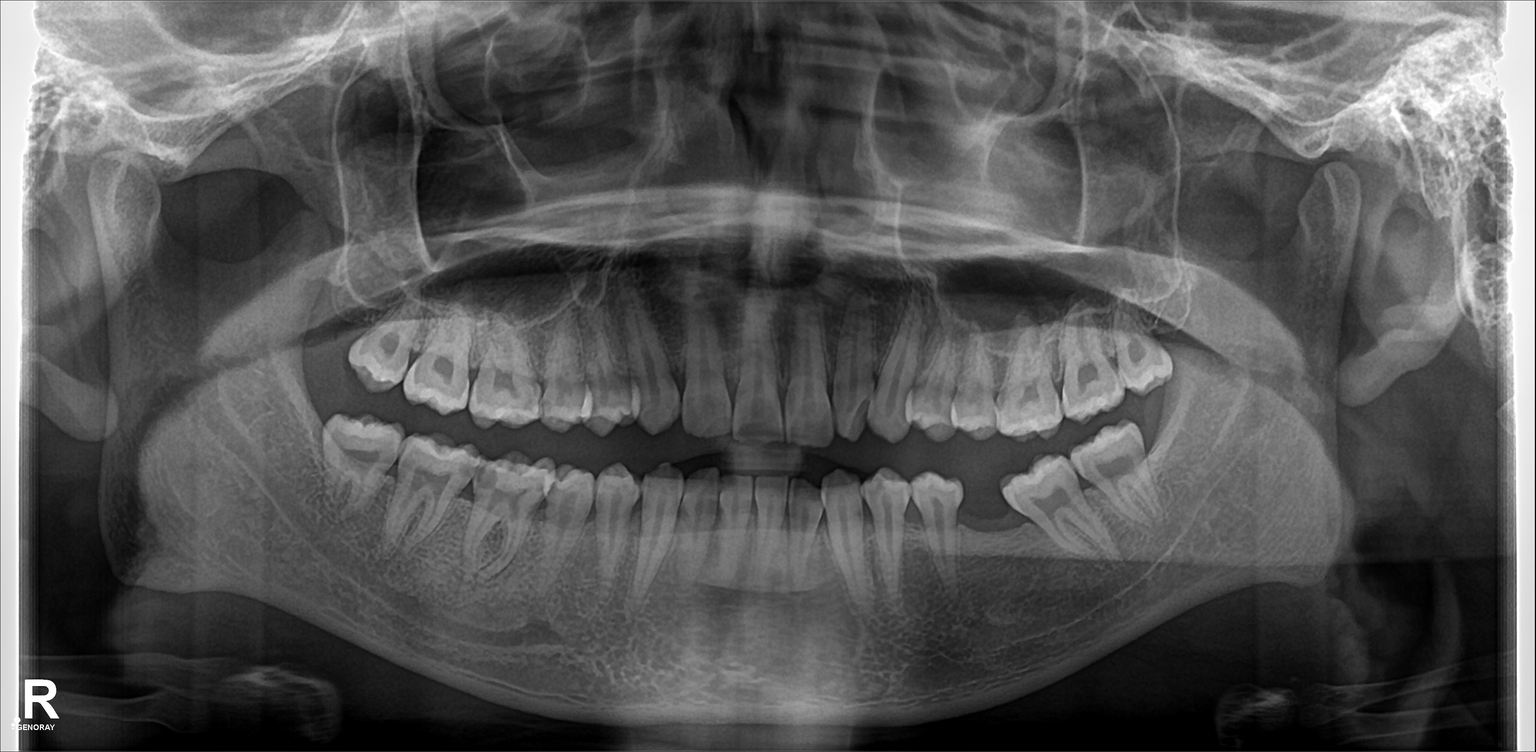Dental Caries: (1080, 348, 1102, 392)
Missing Tooth: (961, 478, 1015, 576), (315, 287, 355, 386), (1136, 404, 1181, 468)
